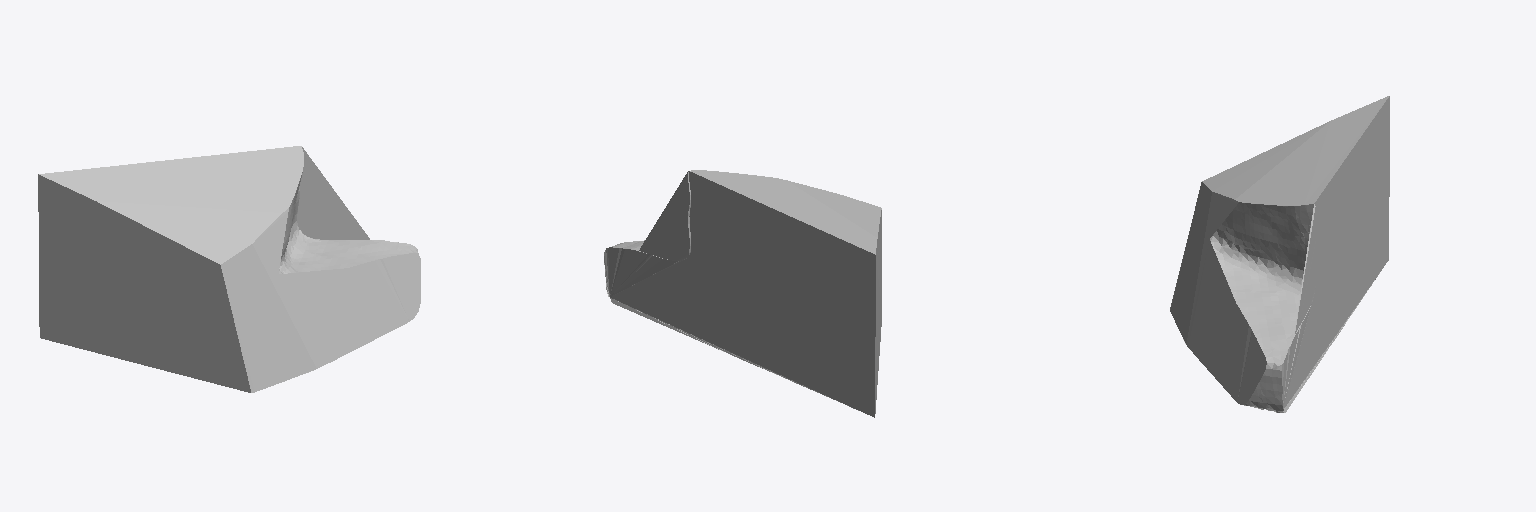
Rendered from low_cell_016.obj.
3 renders of one model, left to right at view 1: azimuth 30°, elevation 25°; view 2: azimuth 150°, elevation 25°; view 3: azimuth 270°, elevation 25°, orthographic.
Visible parts, largest first — view 1: low_cell.016_low_cell.015; view 2: low_cell.016_low_cell.015; view 3: low_cell.016_low_cell.015.
Part boxes in pixels (x1,y1,x2,y2): low_cell.016_low_cell.015: (38,146,420,392); low_cell.016_low_cell.015: (604,170,881,417); low_cell.016_low_cell.015: (1170,96,1389,412).
Bounding box in the file's own units: 0.9447 × 0.4582 × 0.5531.